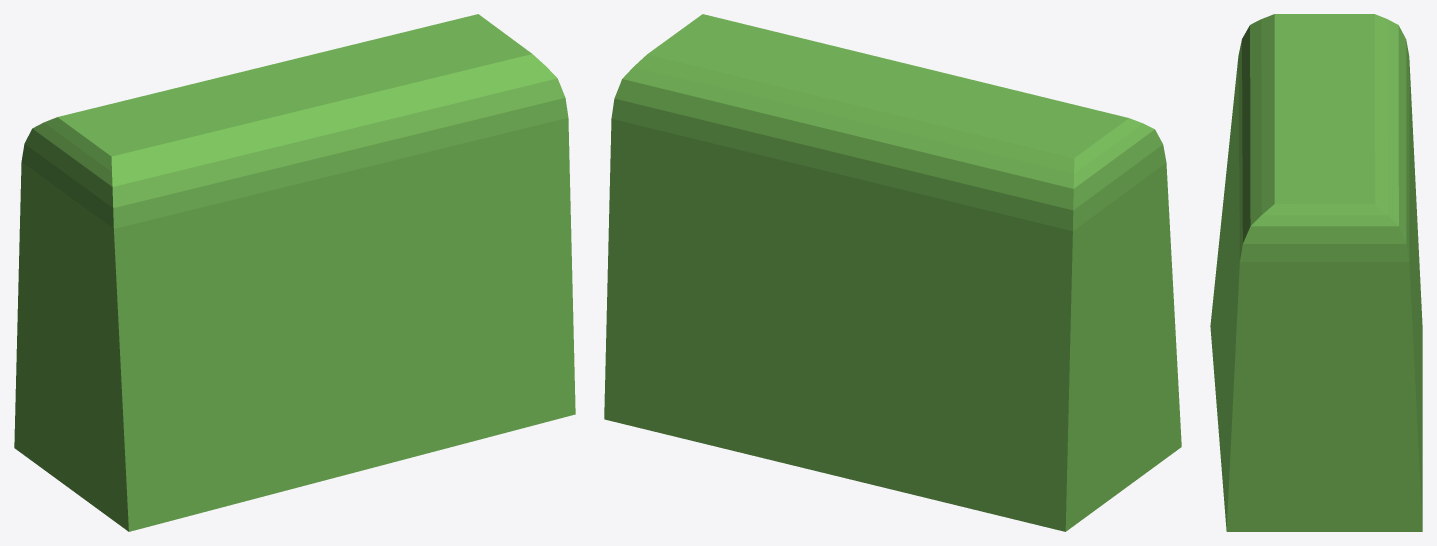
File: O_Enviroment_Hedge_Small1.fbx
3 renders of one model, left to right at view 1: azimuth 30°, elevation 25°; view 2: azimuth 150°, elevation 25°; view 3: azimuth 270°, elevation 25°, orthographic. The views are drawn at different scales.
Parts seen in each view (by area): view 1: pCube3; view 2: pCube3; view 3: pCube3.
Part boxes in pixels (<box>): pCube3: <box>14,14,575,531</box>; pCube3: <box>604,14,1181,531</box>; pCube3: <box>1210,14,1422,531</box>.
Size of the model in its own units: 4 by 2.9 by 1.75.
